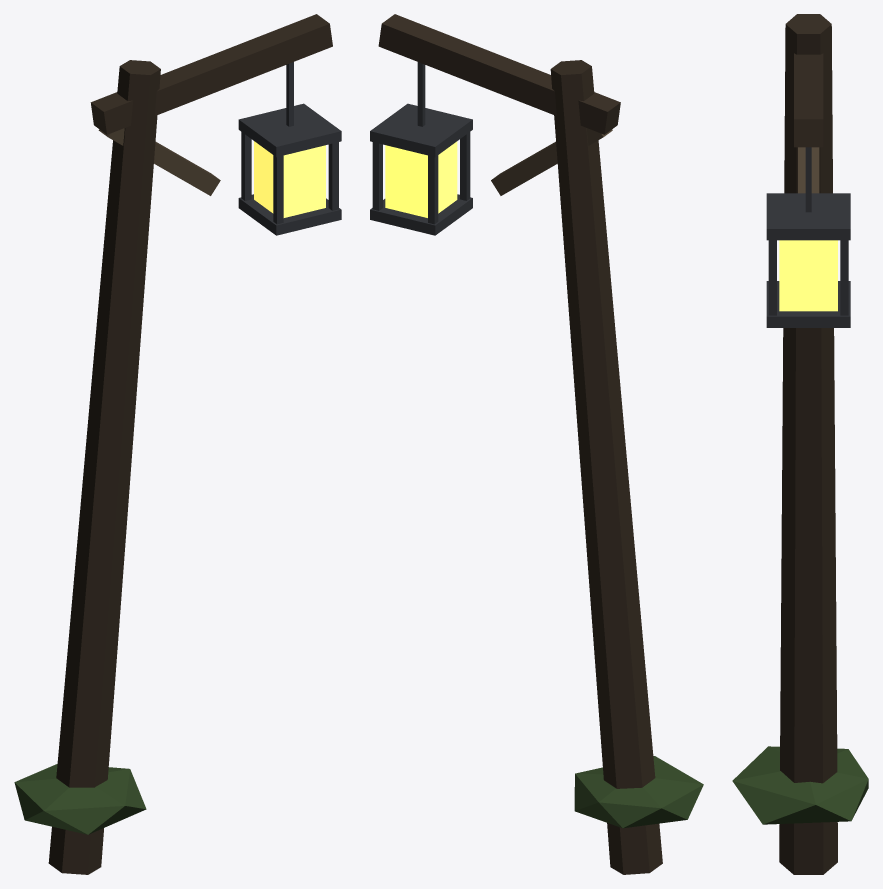
File: decor_lantern.glb
The picture shows the model from 3 angles, left to right: view 1: azimuth 30°, elevation 25°; view 2: azimuth 150°, elevation 25°; view 3: azimuth 270°, elevation 25°; orthographic projection. The views are drawn at different scales.
Visible parts, largest first — view 1: decor_lantern; view 2: decor_lantern; view 3: decor_lantern.
Boxes of the visible parts, x1,y1,x2,y2 form: decor_lantern: (14, 14, 341, 874); decor_lantern: (370, 14, 703, 874); decor_lantern: (732, 14, 868, 874).
Size of the model in its own units: 0.9269 by 2.31 by 0.3243.
